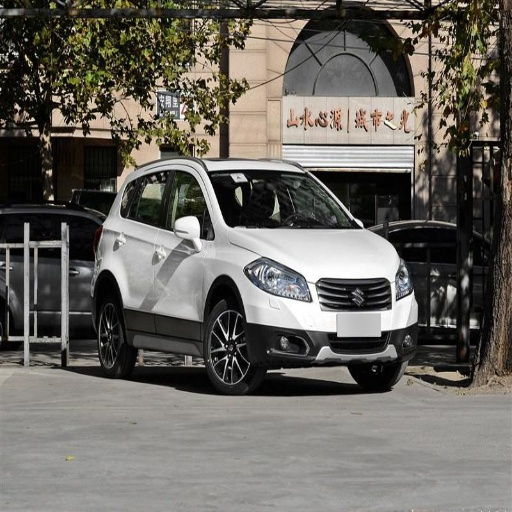front_bumper: (245, 264, 418, 367)
front_right_door: (155, 165, 207, 340)
front_right_light: (245, 258, 312, 301)
